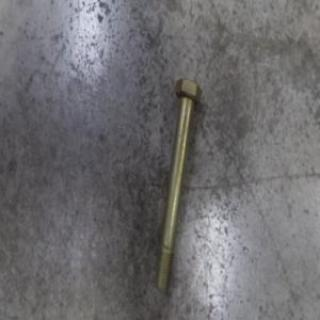Bolttrack_idkeyframe: (151, 76, 201, 293)
